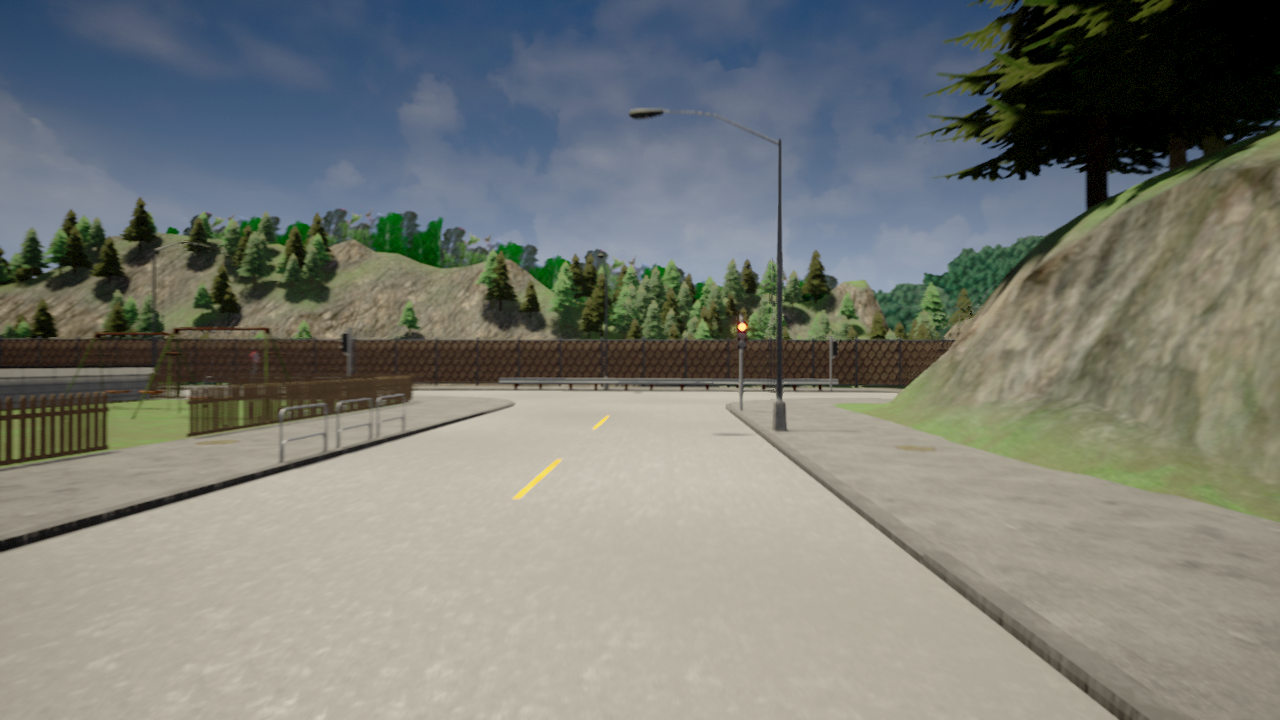red: (736, 319, 749, 350)
